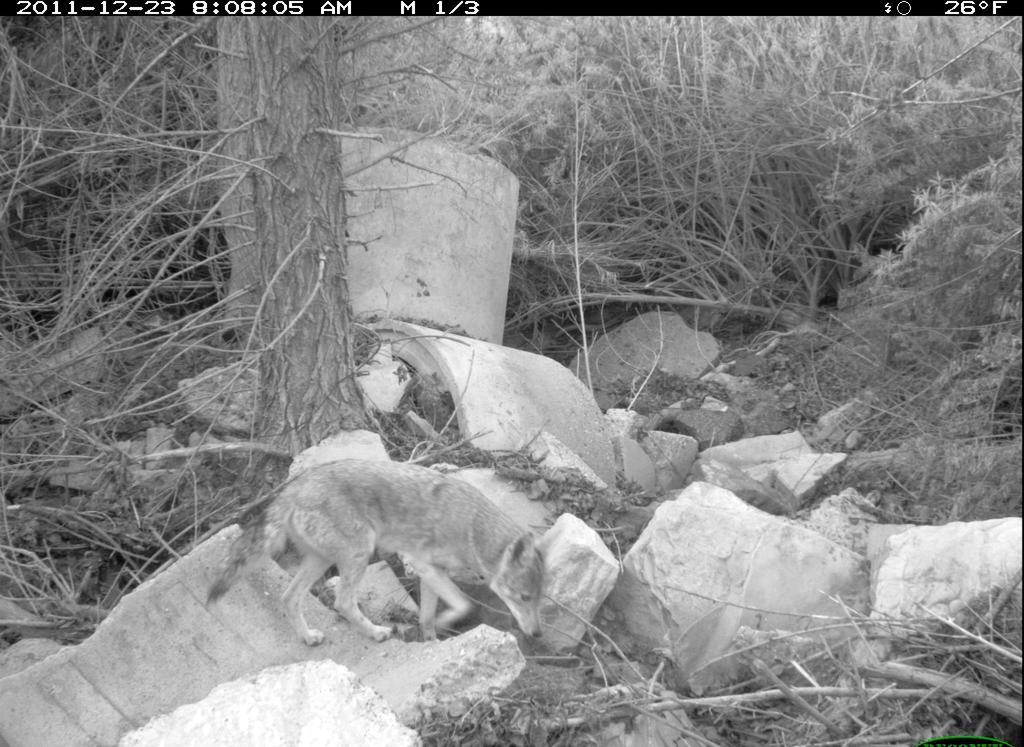coyote: (205, 457, 559, 649)
